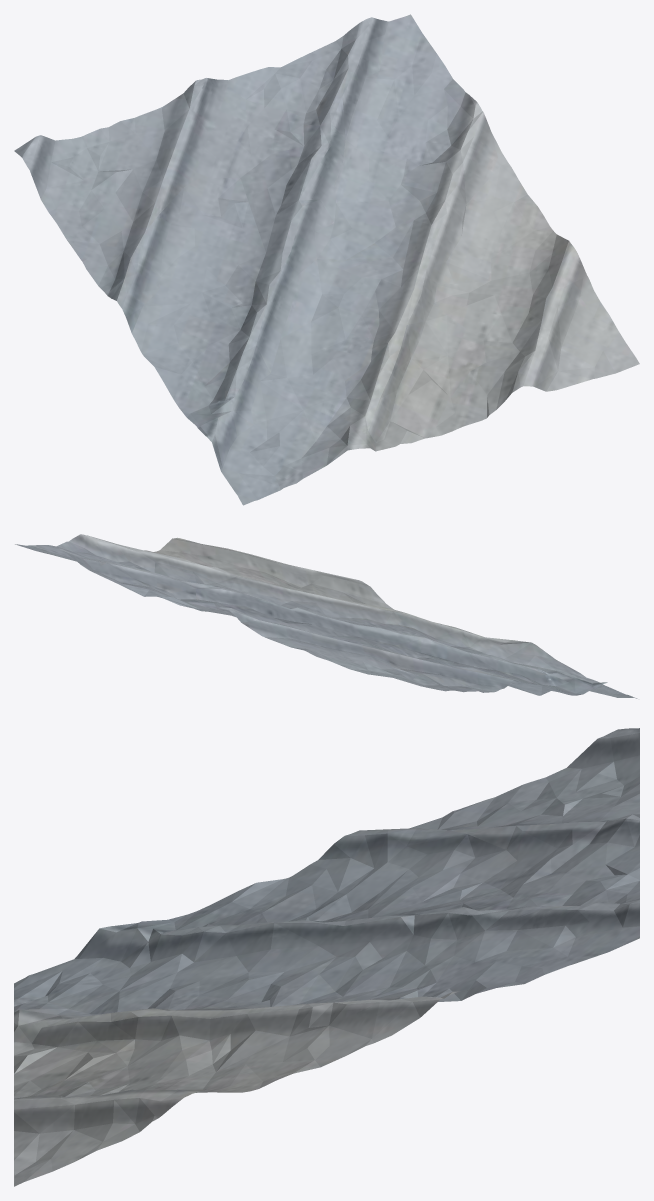
3 renders of one model, top to bottom at view 1: azimuth 30°, elevation 25°; view 2: azimuth 150°, elevation 25°; view 3: azimuth 270°, elevation 25°, orthographic. The views are drawn at different scales.
Size of the model in its own units: 0.8374 by 0.4706 by 0.8373.
3 materials, 3 textured.
